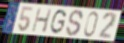0: (84, 10, 99, 39)
2: (97, 12, 118, 40)
5: (17, 5, 34, 33)
G: (49, 9, 68, 35)
H: (31, 7, 53, 34)
S: (65, 9, 85, 38)
